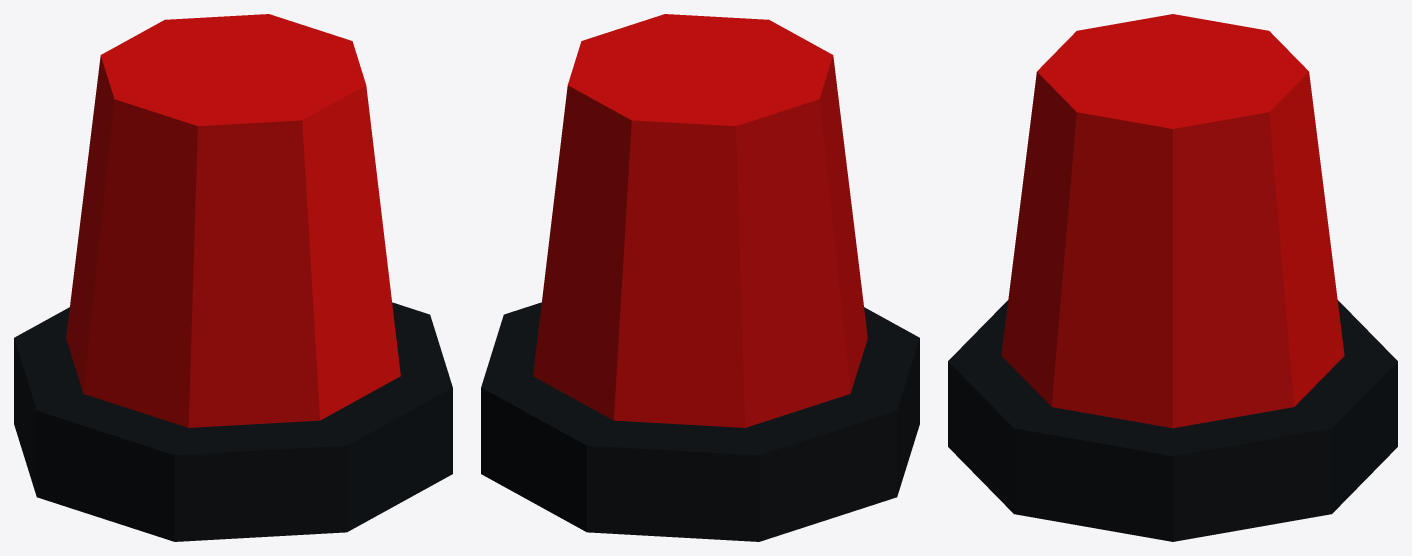
File: SM_RaptorBeacon.fbx
3 views of the same model, side by side, from view 1: azimuth 30°, elevation 25°; view 2: azimuth 150°, elevation 25°; view 3: azimuth 270°, elevation 25° (orthographic).
Parts seen in each view (by area): view 1: SM_RaptorBeacon • FBX; view 2: SM_RaptorBeacon • FBX; view 3: SM_RaptorBeacon • FBX.
Part boxes in pixels (bbox=[...]): SM_RaptorBeacon • FBX: bbox=[14, 14, 452, 541]; SM_RaptorBeacon • FBX: bbox=[481, 14, 919, 541]; SM_RaptorBeacon • FBX: bbox=[948, 14, 1397, 541].
Bounding box in the file's own units: 76 × 76 × 70.
